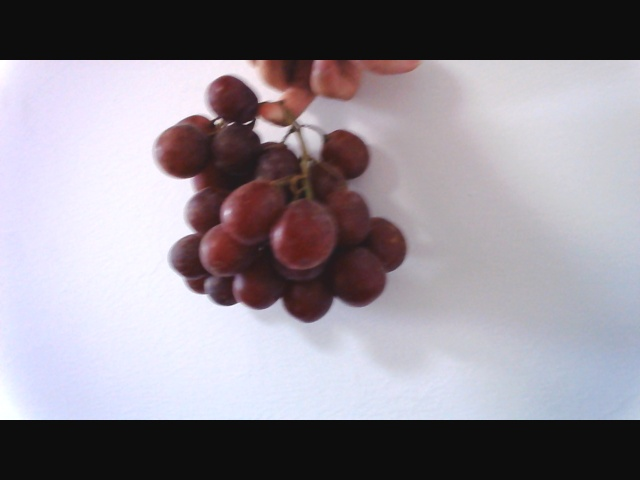grape: (159, 83, 426, 321)
